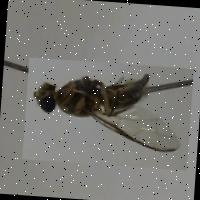Oriental-fruit-fly: (20, 56, 192, 169)
